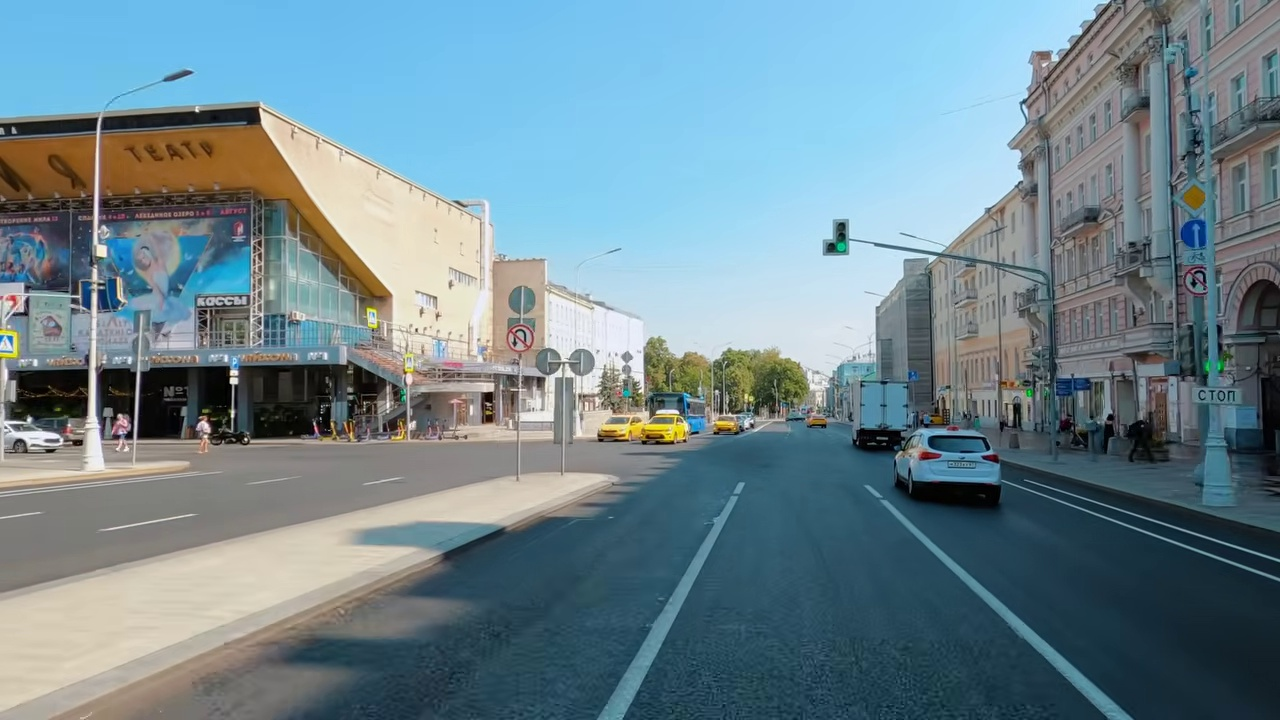apagada: (819, 228, 851, 263)
